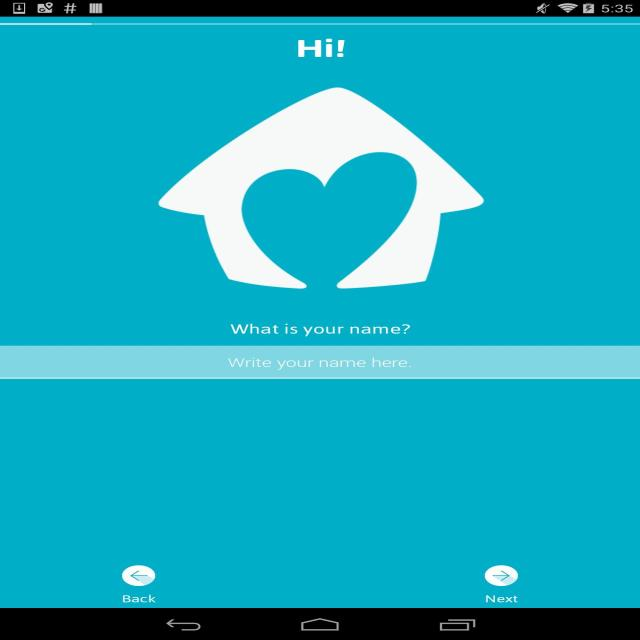button: (108, 562, 166, 604), (477, 561, 526, 606)
field: (4, 347, 639, 378)
heading: (293, 34, 351, 64)
image: (0, 17, 640, 610), (164, 86, 486, 289)
label: (224, 352, 411, 372)
text: (225, 318, 416, 342)
